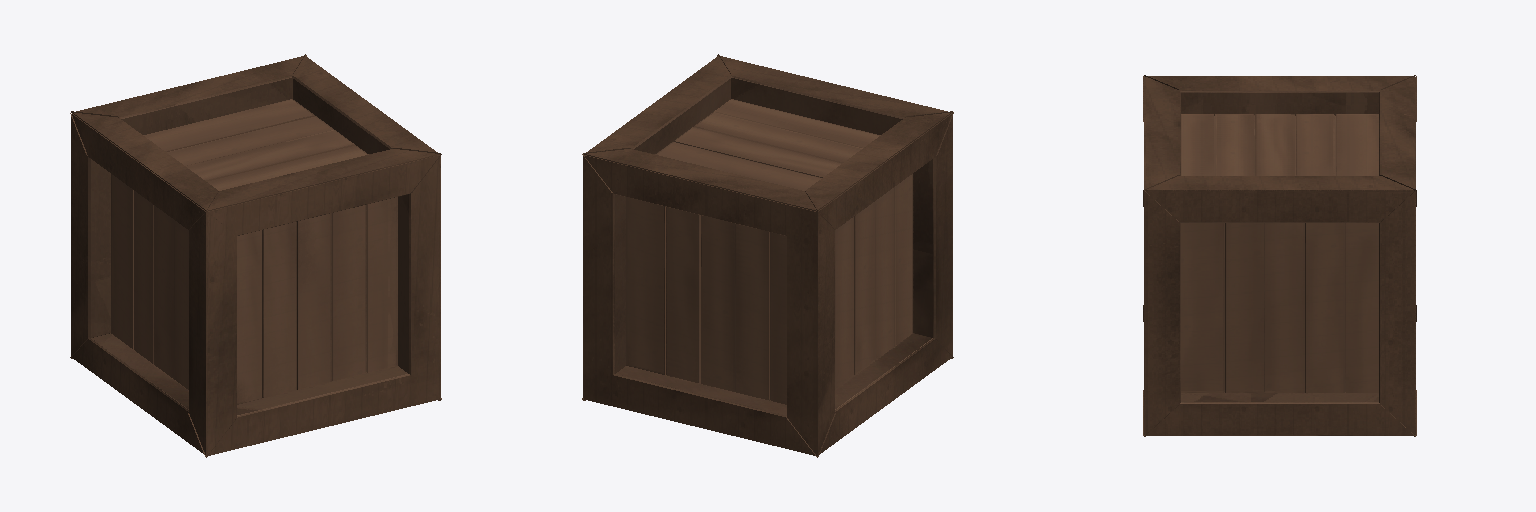
3 renders of one model, left to right at view 1: azimuth 30°, elevation 25°; view 2: azimuth 150°, elevation 25°; view 3: azimuth 270°, elevation 25°, orthographic.
Parts seen in each view (by area): view 1: Cube_Material_Material, Cube.006_Material, Cube.001_Material, Cube.002_Material; view 2: Cube_Material_Material, Cube.005_Material, Cube.001_Material, Cube.002_Material; view 3: Cube_Material_Material, Cube.004_Material, Cube.002_Material.
Part boxes in pixels (bbox=[...]): Cube_Material_Material: bbox=[70, 54, 441, 457]; Cube.006_Material: bbox=[237, 197, 397, 404]; Cube.001_Material: bbox=[111, 174, 188, 389]; Cube.002_Material: bbox=[143, 99, 368, 190]; Cube_Material_Material: bbox=[582, 54, 953, 457]; Cube.005_Material: bbox=[626, 197, 786, 404]; Cube.001_Material: bbox=[835, 174, 912, 389]; Cube.002_Material: bbox=[655, 99, 880, 190]; Cube_Material_Material: bbox=[1143, 75, 1416, 436]; Cube.004_Material: bbox=[1181, 223, 1378, 392]; Cube.002_Material: bbox=[1181, 114, 1378, 175].
Bounding box in the file's own units: 2.04 × 2.04 × 2.04.
Materials: 1 (1 with a texture image).